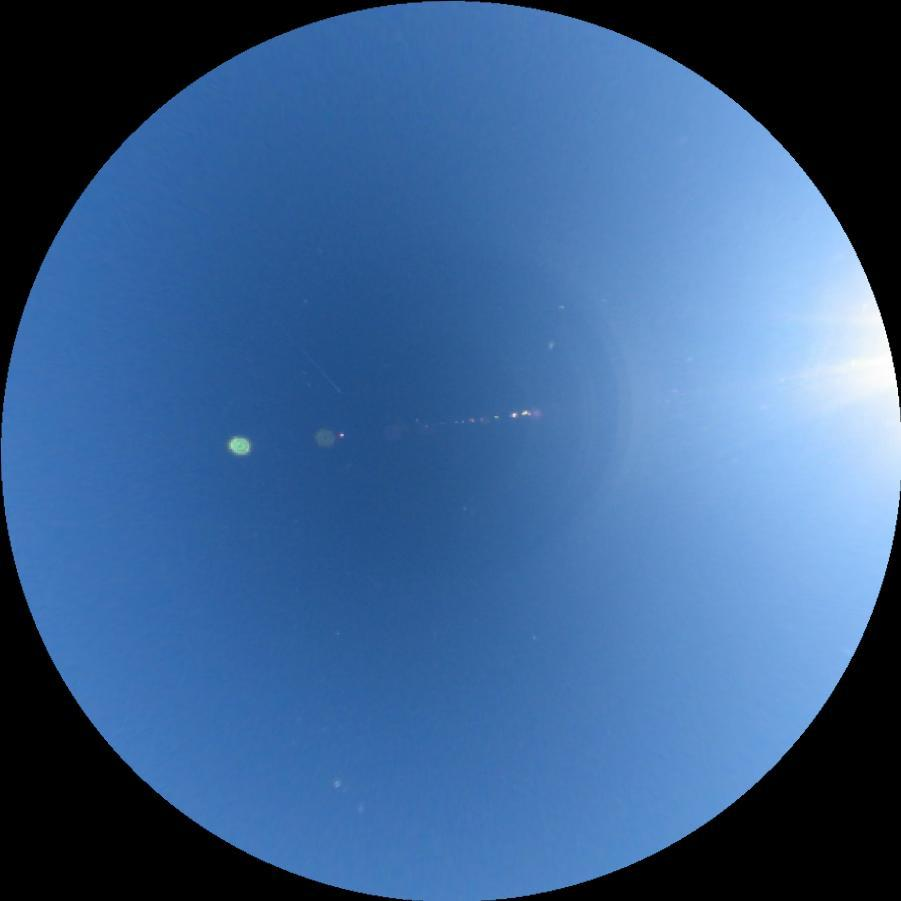contrail young: (284, 335, 346, 399), (207, 396, 233, 439), (354, 571, 381, 593)
